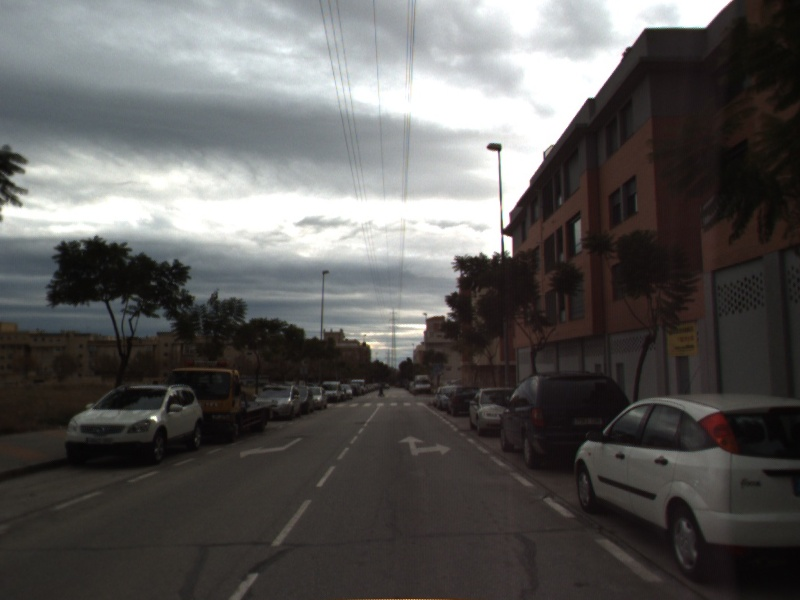STRAIGHT_RIGHT: (396, 432, 454, 457)
